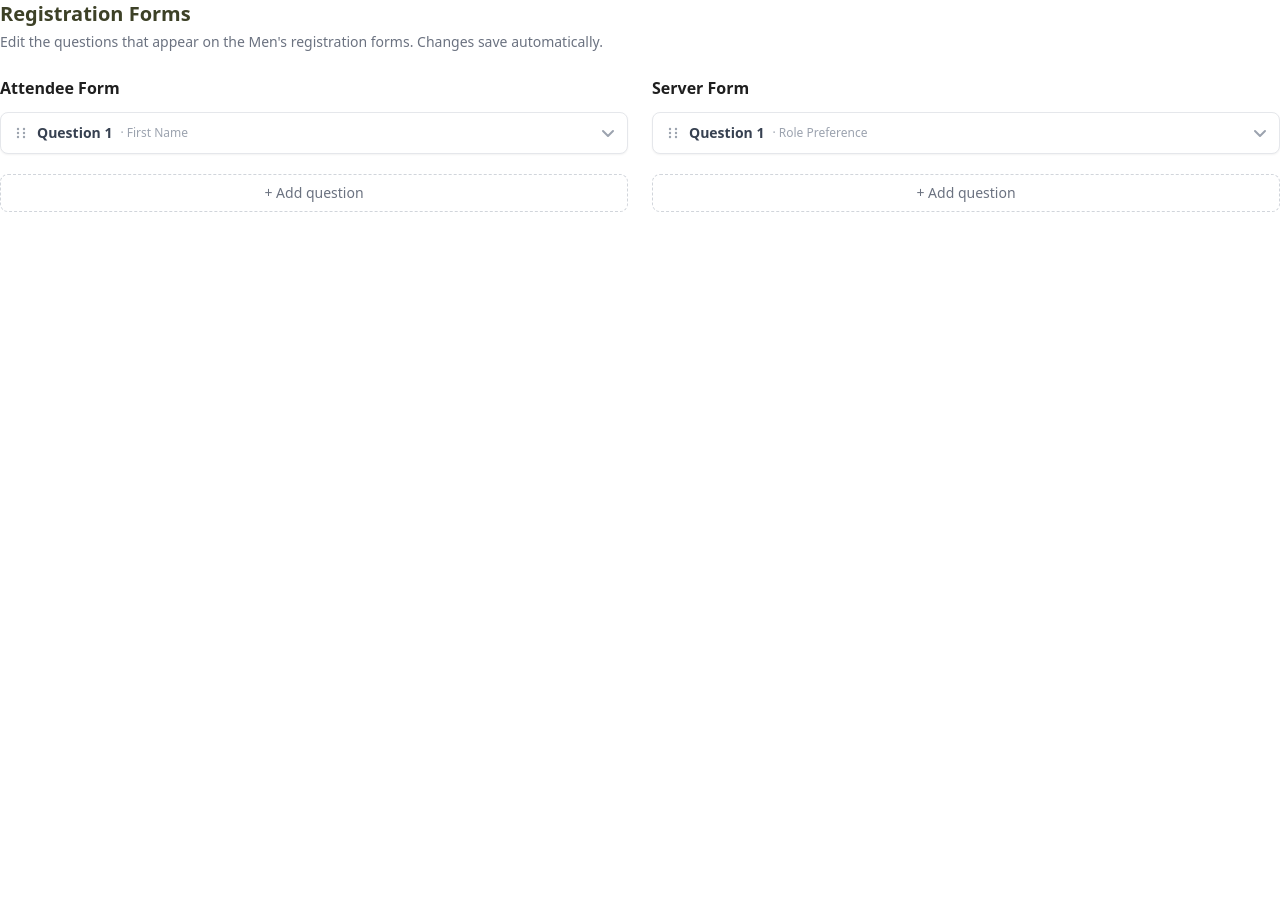
Test: FormsEditor page › cancels delete when Cancel is clicked
expect the text "Question 1" below "Attendee Form" is shown: met, box [37,123,112,142]
Click the button "Question 1 · First Name".
click(75, 132)  # box [13,123,615,142]
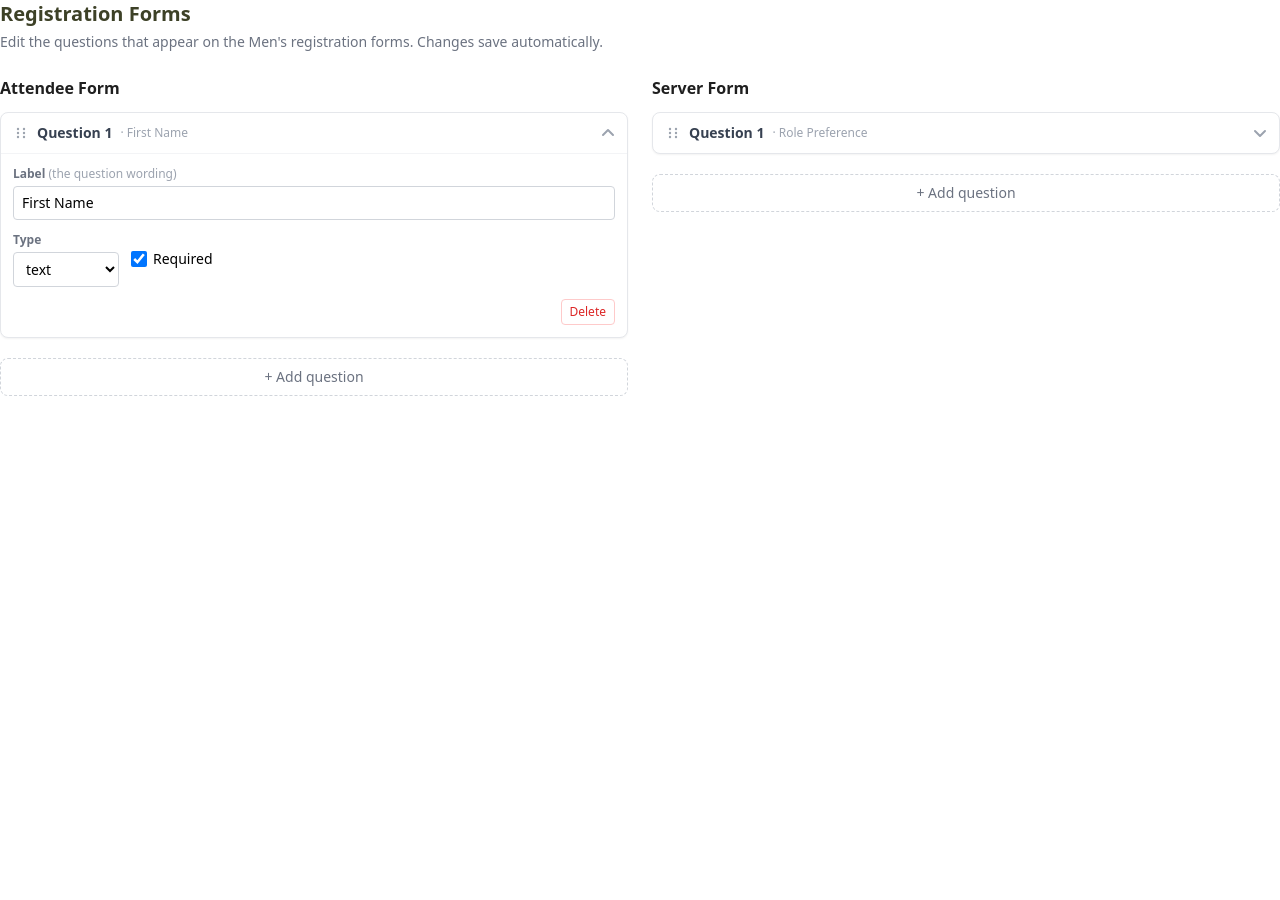
Click the button with aria-label "delete first_name".
click(588, 312)  # box [560,299,615,325]
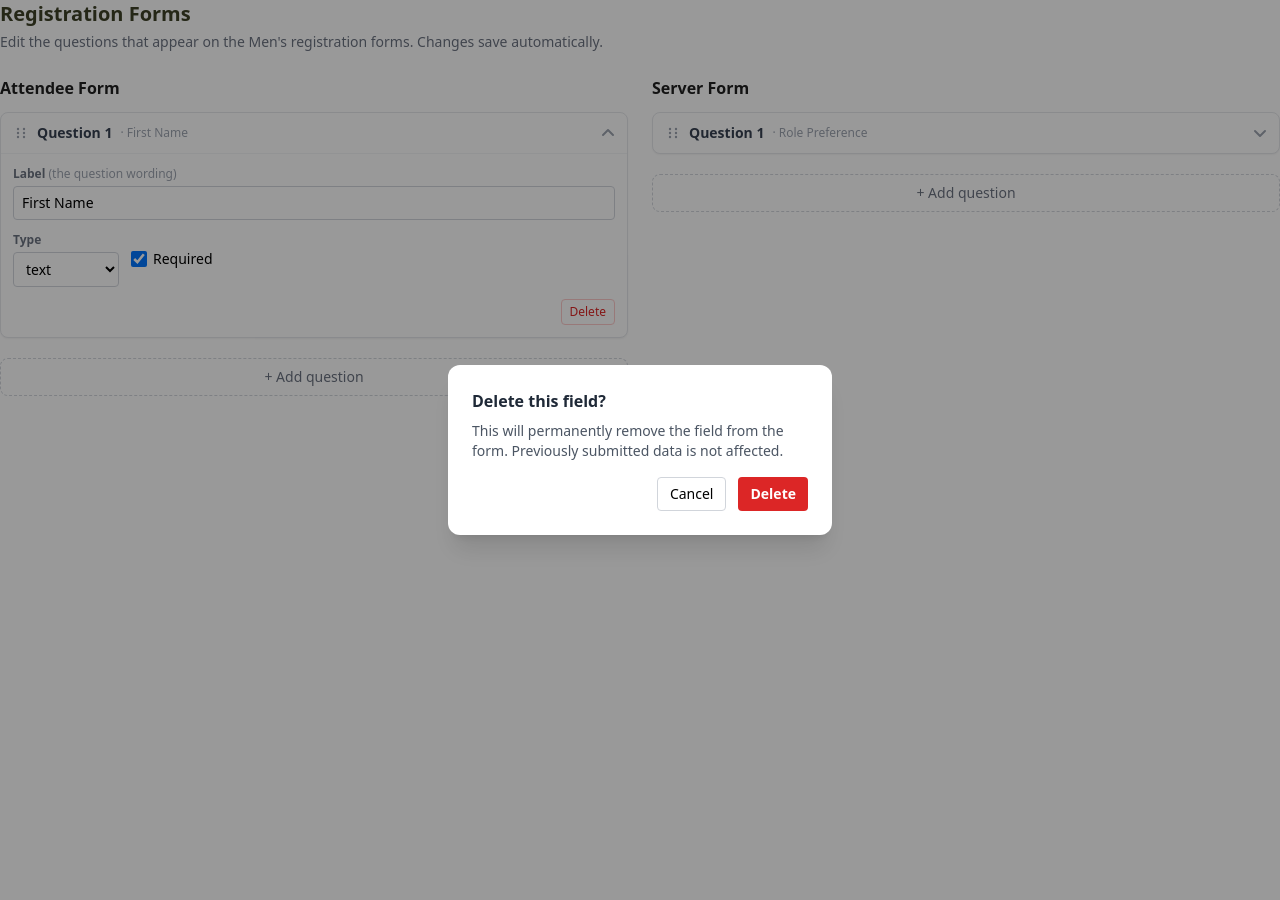
expect the dialog named "confirm delete" is shown: met
Click the button "Cancel".
click(692, 494)  # box [657,477,726,511]
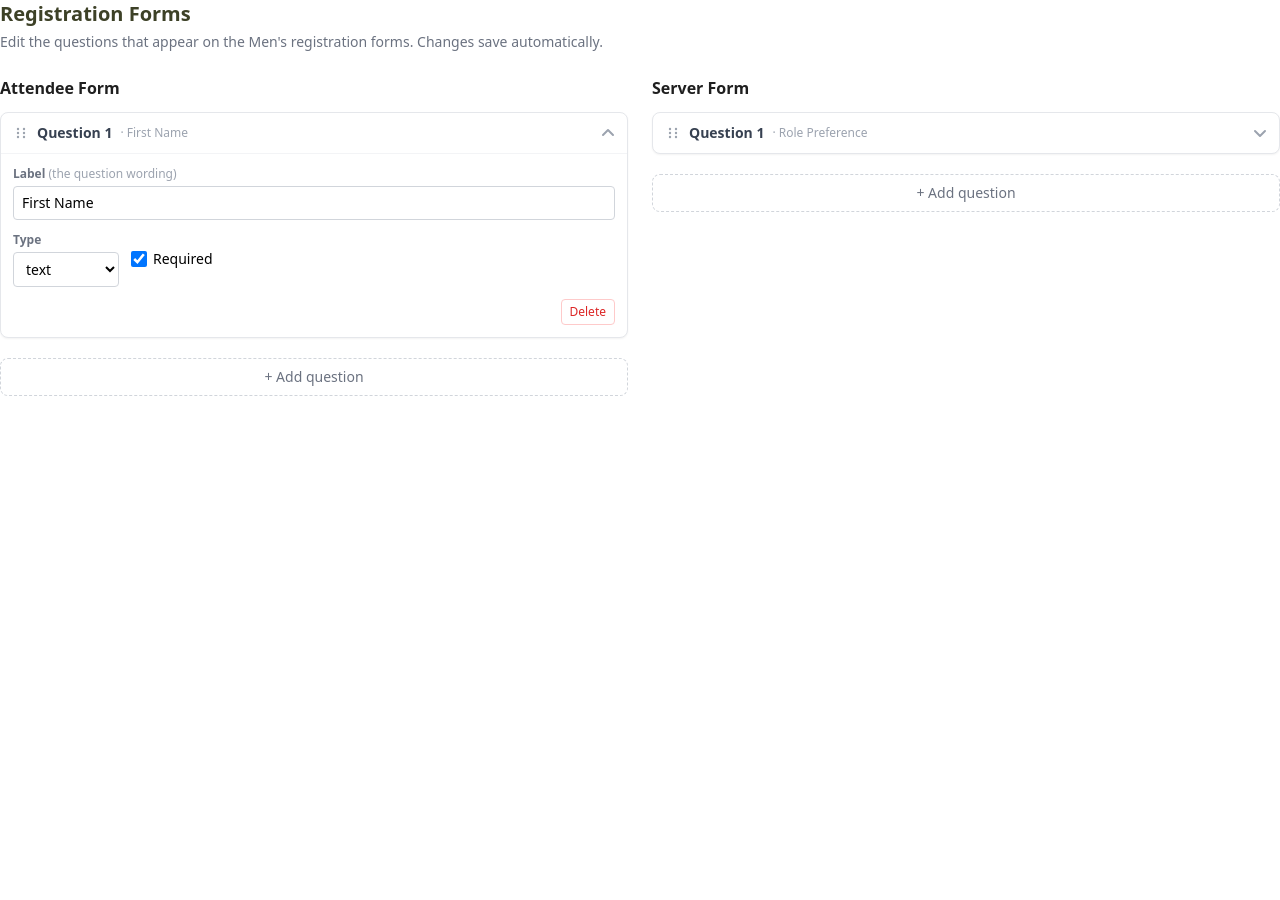
expect the dialog is gone: met
